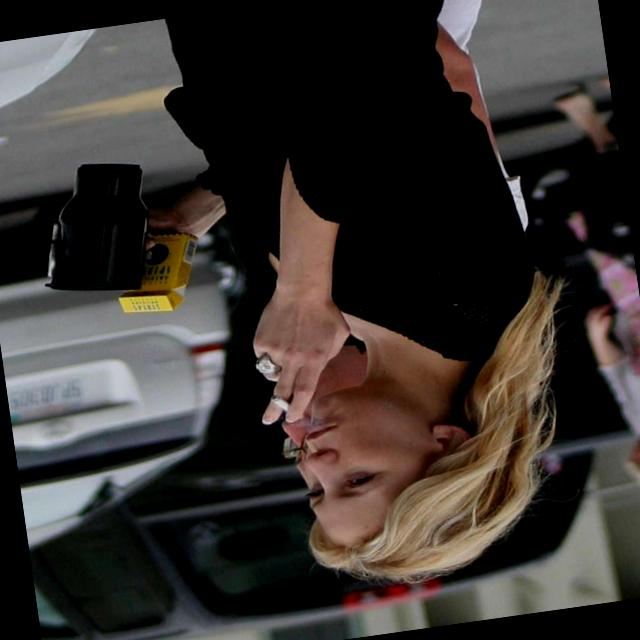cigarette: (260, 391, 296, 415)
